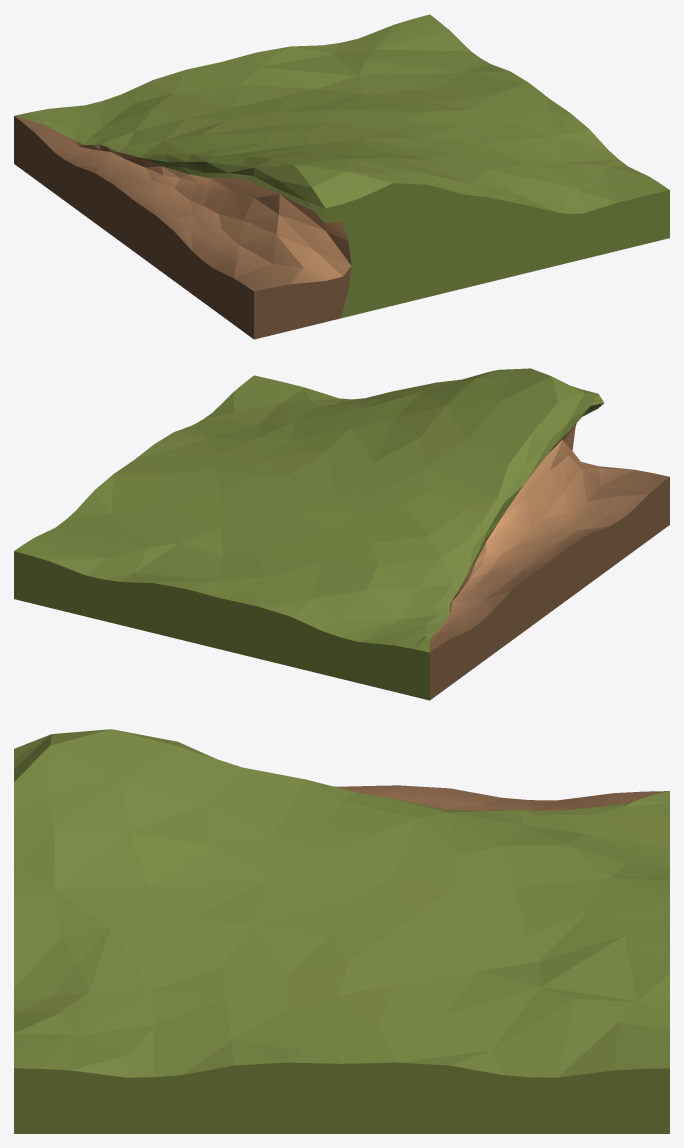
Rendered from Terrian_Cliff_Hill_End-01.fbx.
3 views of the same model, one above another, from view 1: azimuth 30°, elevation 25°; view 2: azimuth 150°, elevation 25°; view 3: azimuth 270°, elevation 25° (orthographic). The views are drawn at different scales.
Parts seen in each view (by area): view 1: Terrian_CliffGrass_Hill_End-01; view 2: Terrian_CliffGrass_Hill_End-01; view 3: Terrian_CliffGrass_Hill_End-01.
Boxes of the visible parts, x1,y1,x2,y2 form: Terrian_CliffGrass_Hill_End-01: [14, 14, 669, 339]; Terrian_CliffGrass_Hill_End-01: [14, 368, 669, 700]; Terrian_CliffGrass_Hill_End-01: [14, 729, 669, 1133].
Bounding box in the file's own units: 3600 × 1098 × 3600.
1 material, 1 textured.
